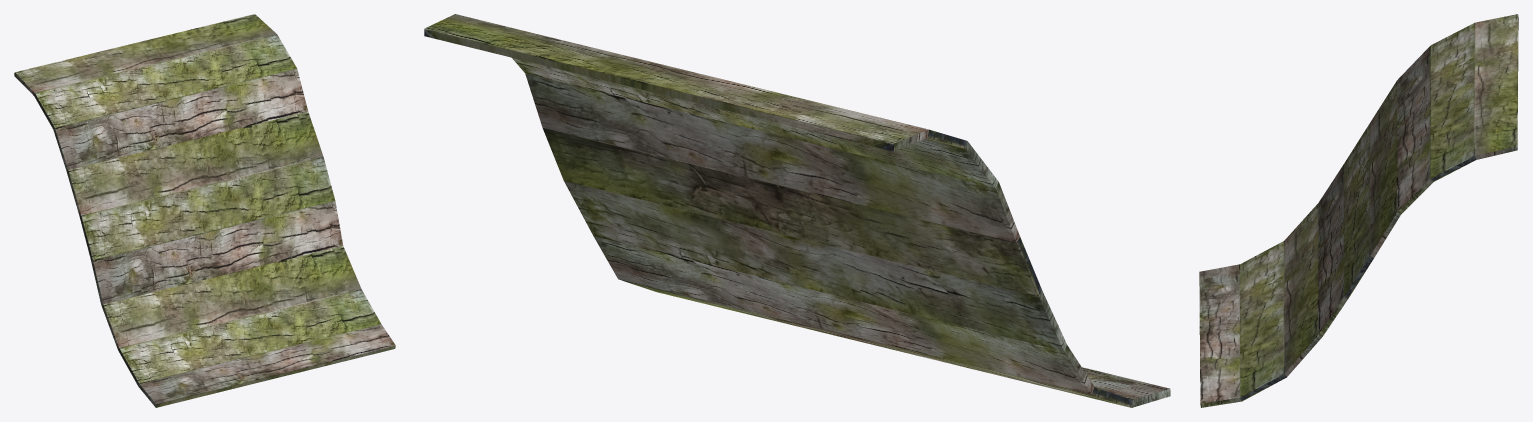
Rendered from 2curver_ahead_colider.fbx.
3 views of the same model, side by side, from view 1: azimuth 30°, elevation 25°; view 2: azimuth 150°, elevation 25°; view 3: azimuth 270°, elevation 25° (orthographic). The views are drawn at different scales.
Visible parts, largest first — view 1: ramp; view 2: ramp; view 3: ramp.
Part boxes in pixels (left/top/right/bottom): ramp: left=14, top=14, right=395, bottom=407; ramp: left=424, top=14, right=1170, bottom=407; ramp: left=1199, top=14, right=1518, bottom=407.
Bounding box in the file's own units: 203 × 185 × 204.
